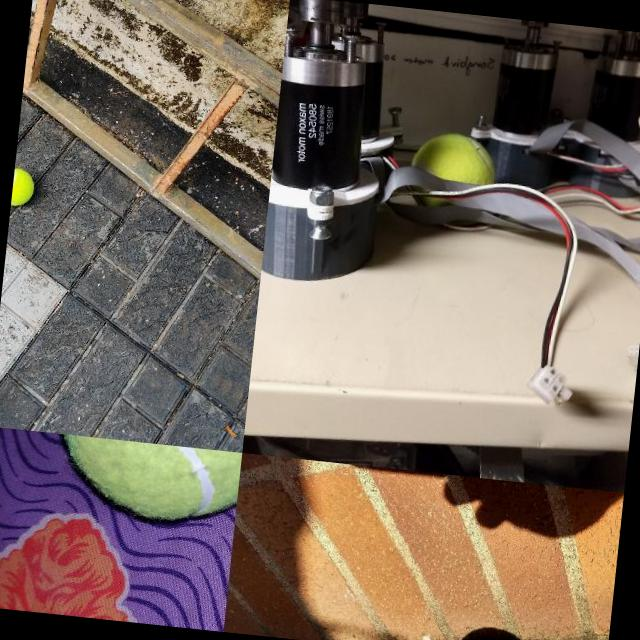Tennis Ball: (42, 432, 242, 532), (412, 128, 499, 174), (11, 168, 36, 208)
